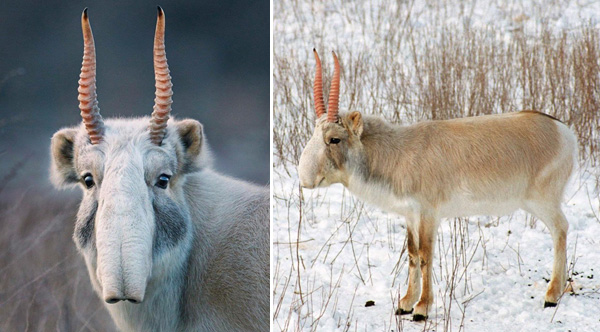saiga: (294, 45, 582, 323), (35, 6, 268, 332)
